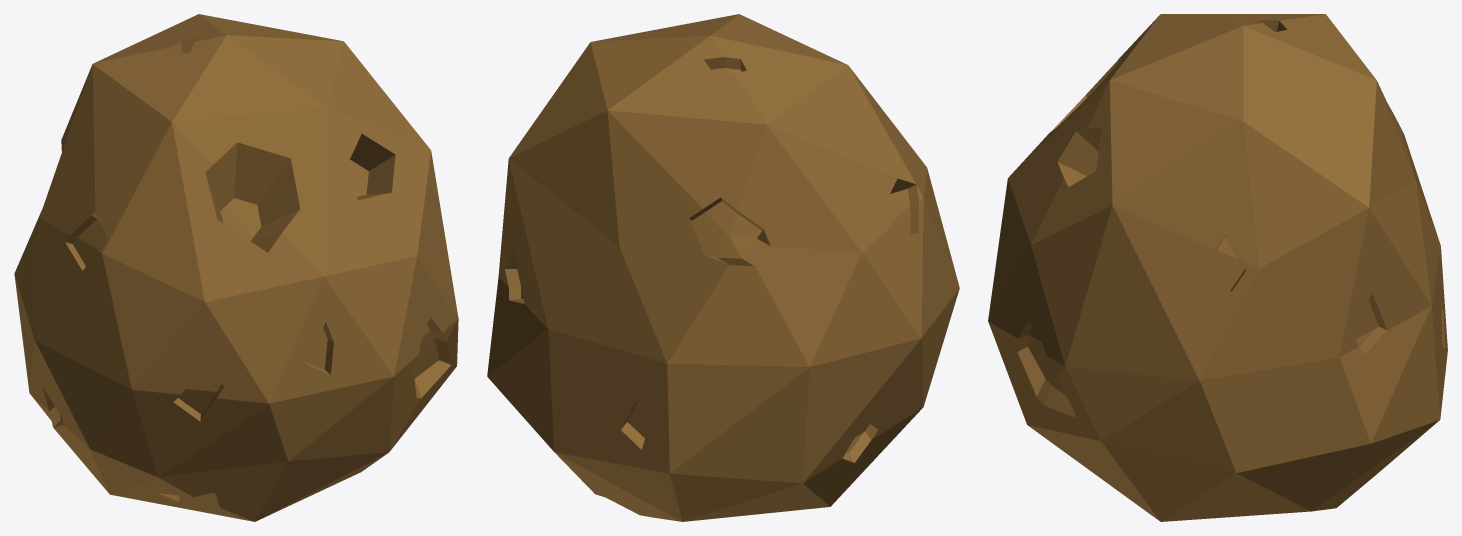
Rendered from asteroid4.fbx.
3 views of the same model, side by side, from view 1: azimuth 30°, elevation 25°; view 2: azimuth 150°, elevation 25°; view 3: azimuth 270°, elevation 25° (orthographic). The views are drawn at different scales.
Visible parts, largest first — view 1: Icosphere; view 2: Icosphere; view 3: Icosphere.
Boxes of the visible parts, <box> form: Icosphere: <box>14,14,458,521</box>; Icosphere: <box>487,14,959,521</box>; Icosphere: <box>988,14,1447,521</box>.
Size of the model in its own units: 901 by 1030 by 886.
